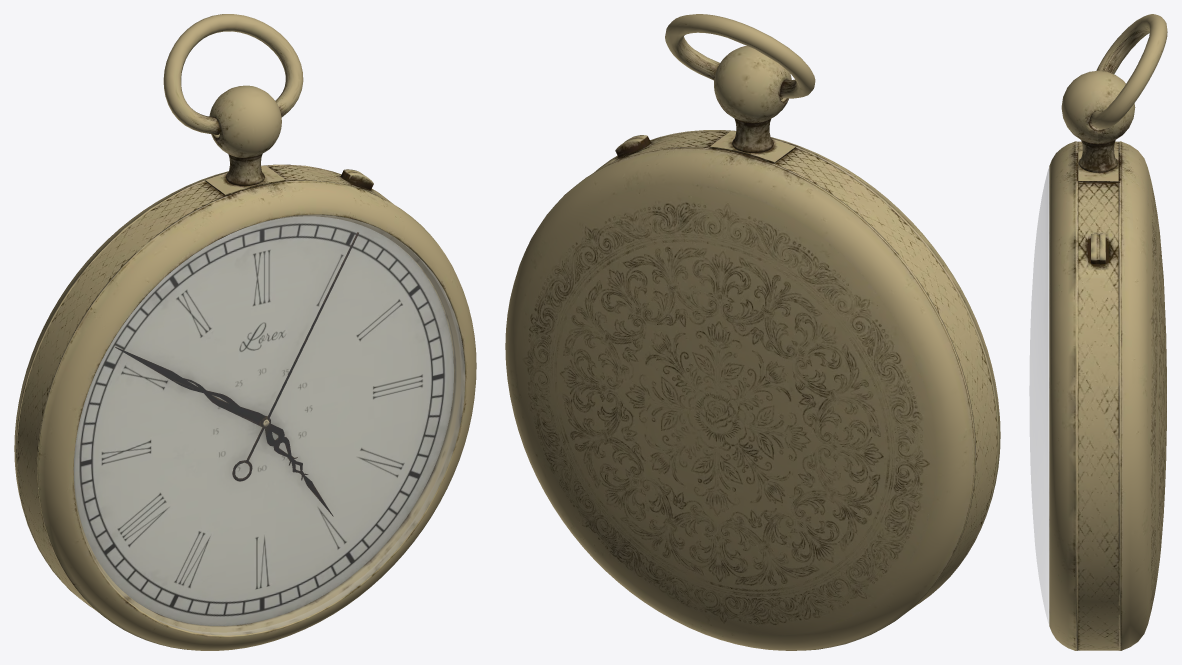
Rendered from watch.glb.
The picture shows the model from 3 angles, left to right: view 1: azimuth 30°, elevation 25°; view 2: azimuth 150°, elevation 25°; view 3: azimuth 270°, elevation 25°; orthographic projection. The views are drawn at different scales.
Parts seen in each view (by area): view 1: pocket_watch_button, pocket_watch_frame; view 2: pocket_watch_button; view 3: pocket_watch_button, pocket_watch_frame.
Part boxes in pixels (x1,y1,x2,y2): pocket_watch_button: (14,14,476,650); pocket_watch_frame: (74,215,464,635); pocket_watch_button: (505,14,1000,650); pocket_watch_button: (1049,14,1167,650); pocket_watch_frame: (1029,169,1048,623).
Size of the model in its own units: 0.0577 by 0.0756 by 0.0156.
Materials: 2 (1 with a texture image).
